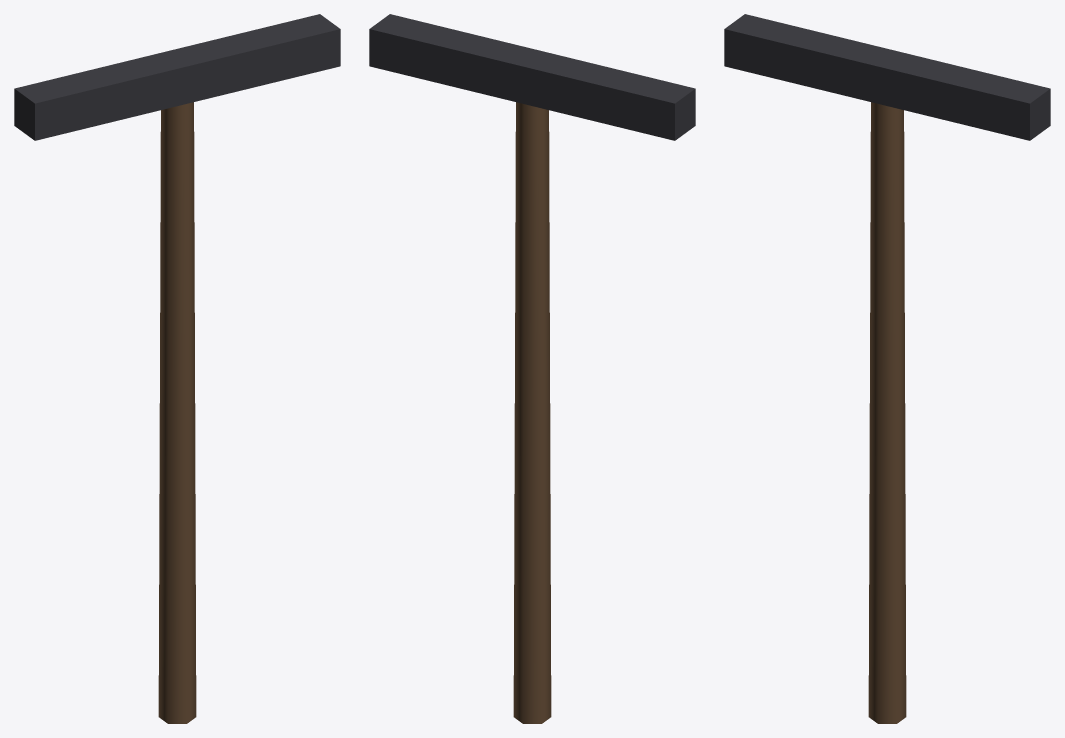
Rendered from hold-mine.glb.
3 renders of one model, left to right at view 1: azimuth 30°, elevation 25°; view 2: azimuth 150°, elevation 25°; view 3: azimuth 330°, elevation 25°, orthographic.
Visible parts, largest first — view 1: 00_#6a5038_noshadow_r110, 01_#3a3a40_noshadow_r110; view 2: 00_#6a5038_noshadow_r110, 01_#3a3a40_noshadow_r110; view 3: 00_#6a5038_noshadow_r110, 01_#3a3a40_noshadow_r110.
Part boxes in pixels (x1,y1,x2,y2): 00_#6a5038_noshadow_r110: [158, 102, 196, 723]; 01_#3a3a40_noshadow_r110: [14, 14, 340, 140]; 00_#6a5038_noshadow_r110: [513, 102, 551, 723]; 01_#3a3a40_noshadow_r110: [369, 14, 695, 140]; 00_#6a5038_noshadow_r110: [868, 102, 906, 723]; 01_#3a3a40_noshadow_r110: [724, 14, 1050, 140].
Size of the model in its own units: 0.3 by 0.6175 by 0.035.
